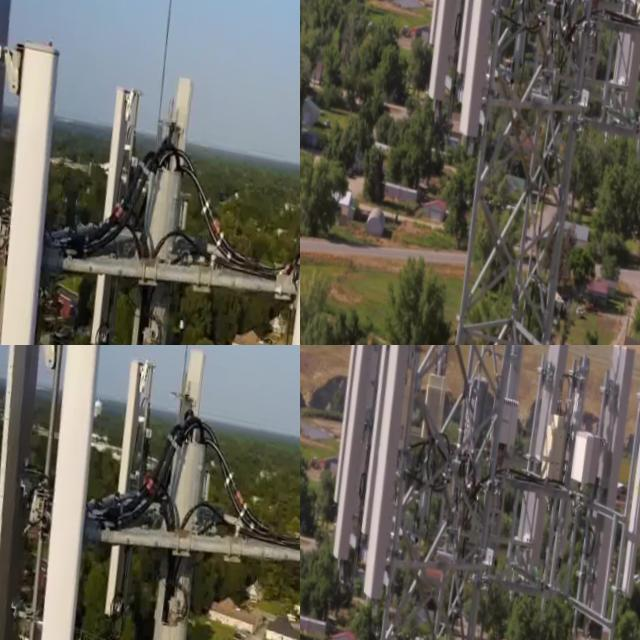GSM Antenna: (0, 345, 129, 640), (346, 345, 433, 611), (0, 345, 70, 640), (569, 345, 640, 626), (74, 80, 147, 345), (501, 345, 581, 586), (0, 23, 58, 345), (93, 350, 161, 619), (319, 345, 395, 566), (150, 345, 215, 585), (543, 345, 604, 581), (149, 69, 204, 272), (447, 0, 529, 130), (611, 382, 640, 607), (418, 0, 487, 94), (491, 345, 535, 474), (606, 0, 640, 125)
